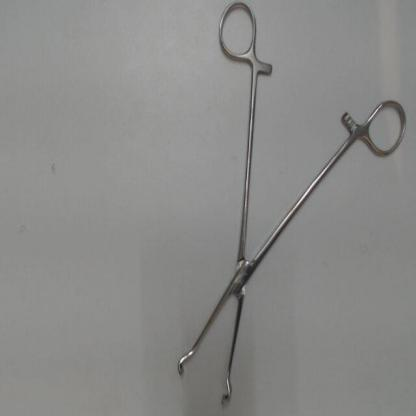8 Babcock Tissue Forceps: (172, 1, 411, 410)
